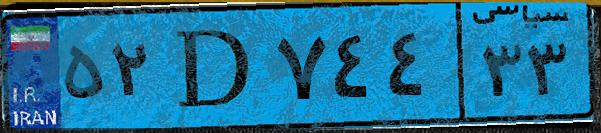2: (110, 28, 158, 98)
3: (475, 38, 525, 113), (525, 38, 570, 115)
4: (385, 28, 445, 110), (330, 28, 385, 110)
5: (57, 26, 110, 100)
7: (270, 28, 330, 110)
D: (158, 12, 270, 120)
